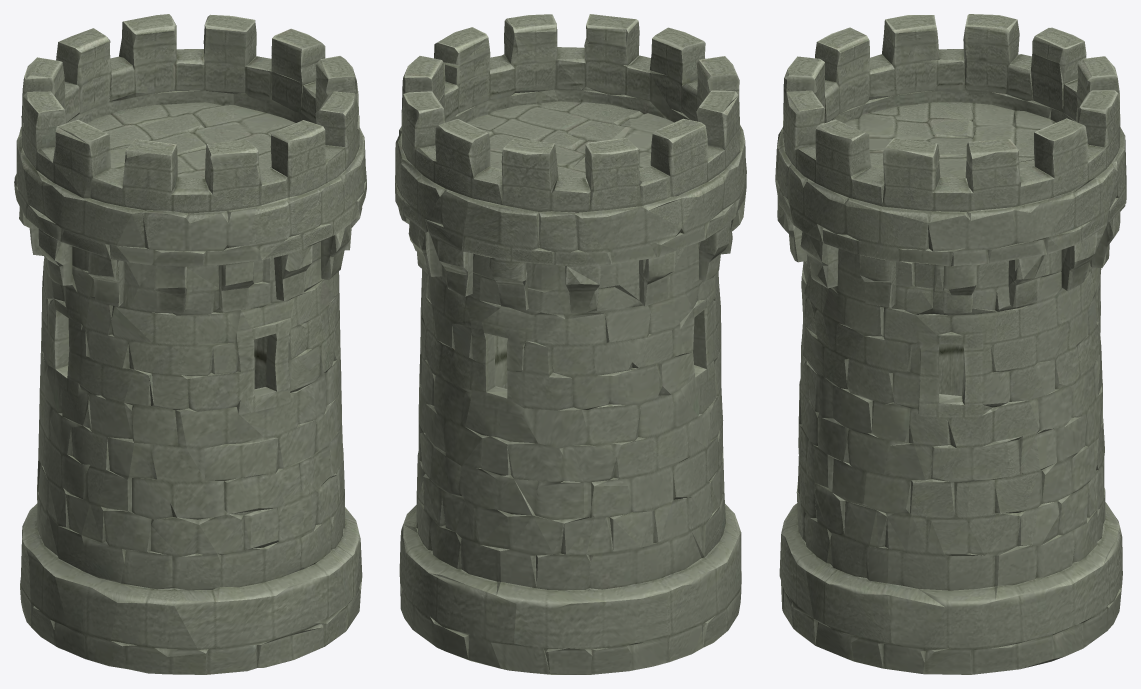
The model's file is inner_wall_tower.glb.
The picture shows the model from 3 angles, left to right: view 1: azimuth 30°, elevation 25°; view 2: azimuth 150°, elevation 25°; view 3: azimuth 270°, elevation 25°; orthographic projection.
Visible parts, largest first — view 1: output_unwrapped; view 2: output_unwrapped; view 3: output_unwrapped.
Boxes of the visible parts, box(x1,y1,x2,y2) form: output_unwrapped: box(14, 14, 366, 674); output_unwrapped: box(395, 14, 746, 674); output_unwrapped: box(775, 14, 1126, 674).
Size of the model in its own units: 1.16 by 1.9 by 1.16.
1 material, 1 textured.
